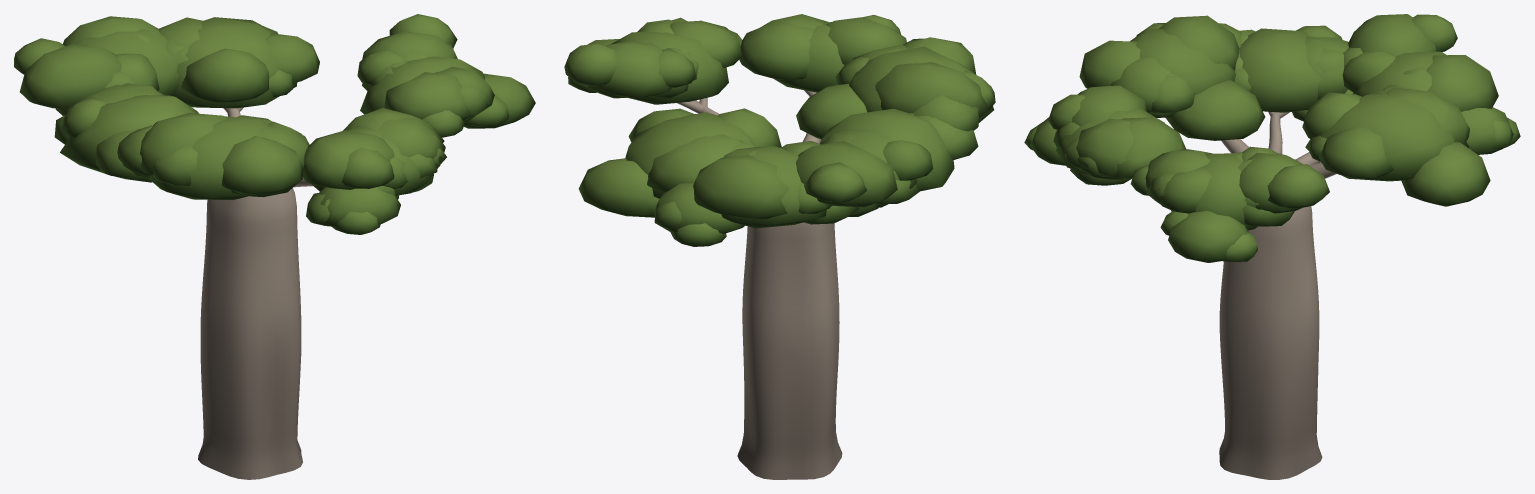
The model's file is baobab_grey.glb.
3 views of the same model, side by side, from view 1: azimuth 30°, elevation 25°; view 2: azimuth 150°, elevation 25°; view 3: azimuth 270°, elevation 25° (orthographic).
Visible parts, largest first — view 1: baobab_grey_leaves, baobab_grey_bark; view 2: baobab_grey_leaves, baobab_grey_bark; view 3: baobab_grey_leaves, baobab_grey_bark.
Boxes of the visible parts, <box> form: baobab_grey_leaves: <box>14,14,535,234</box>; baobab_grey_bark: <box>198,107,313,479</box>; baobab_grey_leaves: <box>564,14,995,246</box>; baobab_grey_bark: <box>677,90,842,479</box>; baobab_grey_leaves: <box>1024,14,1520,262</box>; baobab_grey_bark: <box>1219,111,1336,479</box>.
Bounding box in the file's own units: 18.98 × 16.99 × 19.78.
